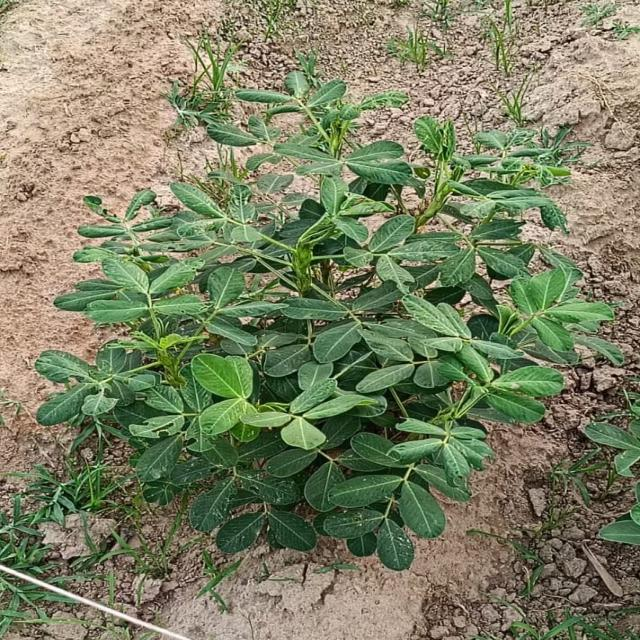plant: (35, 71, 624, 571)
